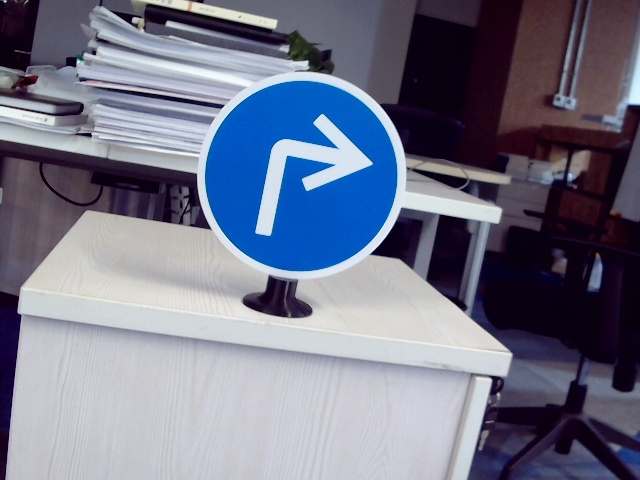turn_right: (250, 108, 368, 250)
